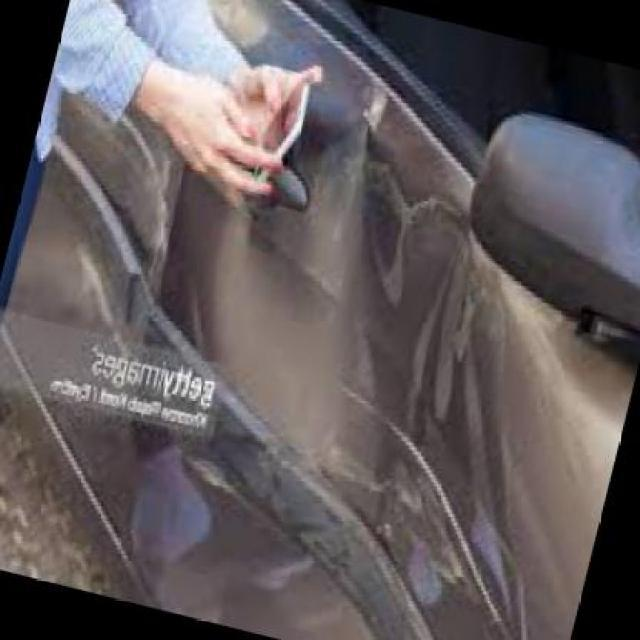dent: (365, 114, 475, 518)
